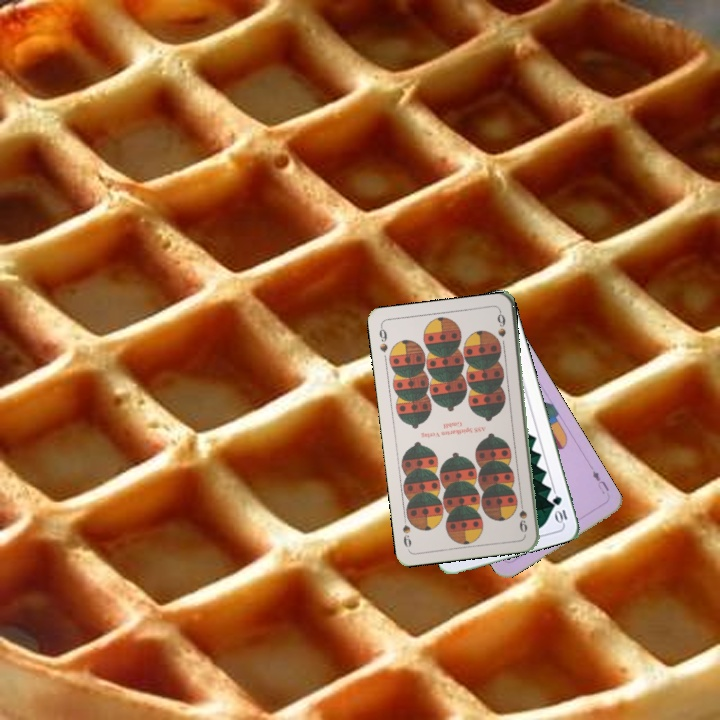EU: (588, 466, 612, 497)
G10: (548, 492, 570, 526)
S9: (516, 495, 530, 535), (375, 322, 390, 355)
